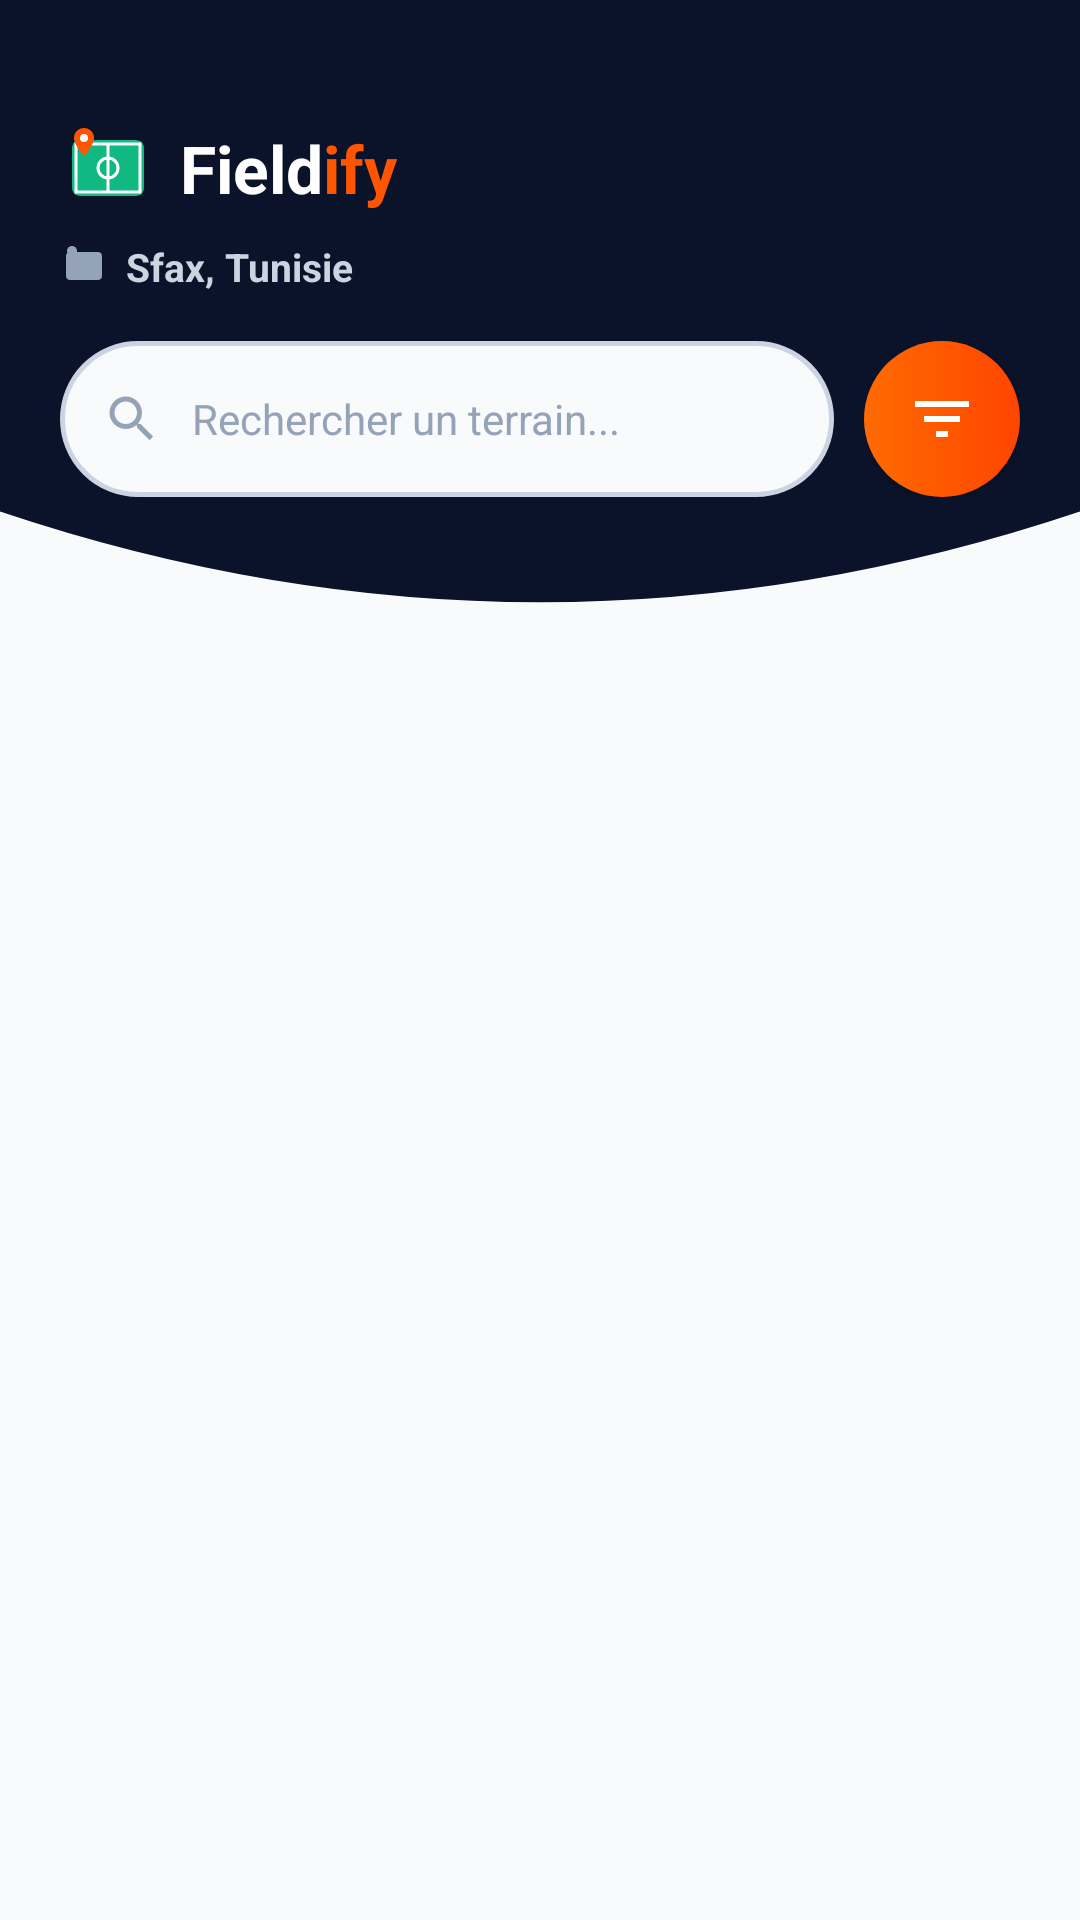

Icons on this 1080 x 1920 Android screen, each with the point to tap as [x,y]:
filter: [942,419]
search: [131,418]
